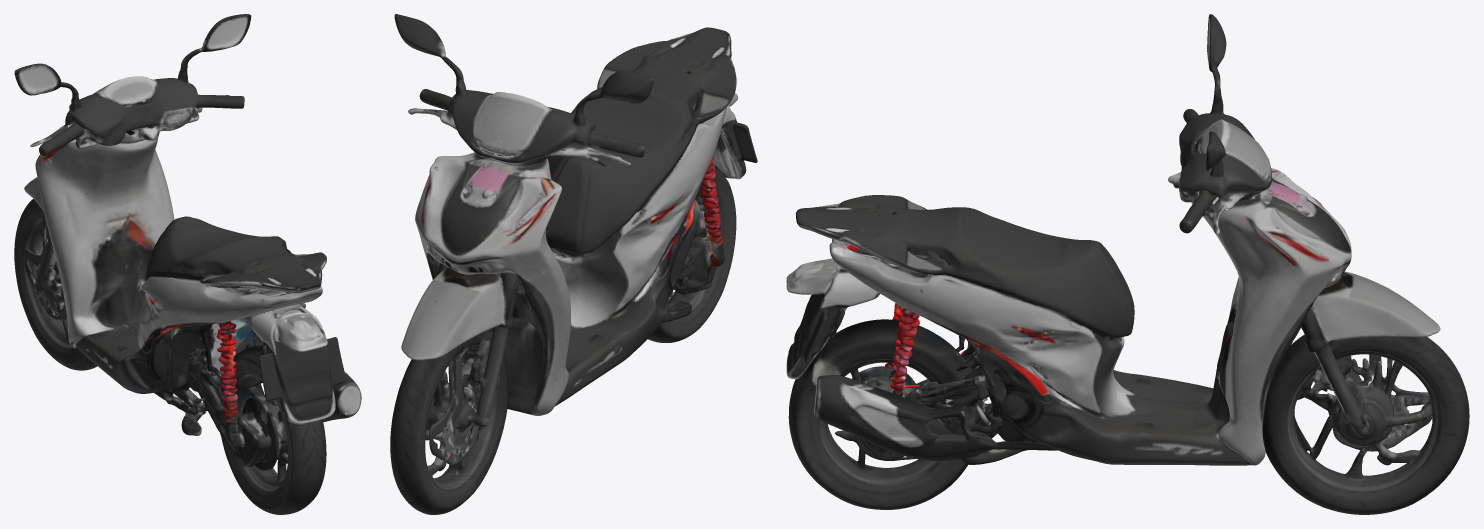
3 views of the same model, side by side, from view 1: azimuth 30°, elevation 25°; view 2: azimuth 150°, elevation 25°; view 3: azimuth 270°, elevation 25° (orthographic). The views are drawn at different scales.
Parts seen in each view (by area): view 1: tripo_node_5f0d297c; view 2: tripo_node_5f0d297c; view 3: tripo_node_5f0d297c.
Part boxes in pixels (x1,y1,x2,y2): tripo_node_5f0d297c: (14,14,361,514); tripo_node_5f0d297c: (390,14,757,514); tripo_node_5f0d297c: (786,14,1469,514).
Bounding box in the file's own units: 46.54 × 70.02 × 100.
